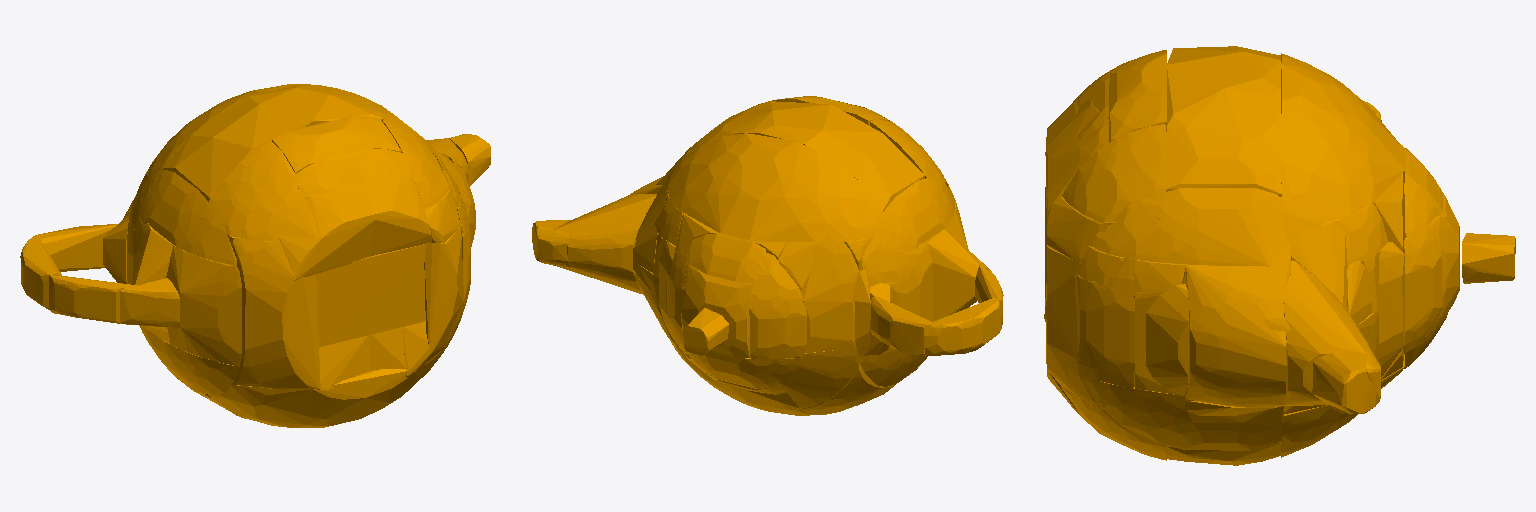
URDF robot description (teapot-white):
<?xml version="1.0" ?>
<robot name="teapot-white">
  <link name="baseLink">
    <contact>
      <lateral_friction value="1.0"/>
      <inertia_scaling value="3.0"/>
    </contact>
    <inertial>
      <origin rpy="0 0 0" xyz="0.000 0.000 0.000"/>
       <mass value=".1"/>
       <inertia ixx="1" ixy="0.0" ixz="0.0" iyy="1" iyz="0.0" izz="1"/>
    </inertial>
    <visual>
      <origin rpy="0 0 0" xyz="0 0 0"/>
      <geometry>
        <mesh filename="teapot/teapot-white_spherical.obj" scale="1.0 1.0 1.0"/>
      </geometry>
    </visual>
    <collision>
      <origin rpy="0 0 0" xyz="0 0 0"/>
      <geometry>
        <mesh filename="../collision/teapot/teapot-white_spherical.obj" scale="1.0 1.0 1.0"/>
      </geometry>
    </collision>
  </link>
</robot>
        

--- Render facts (derived) ---
3 views of the same robot in one strip: view 1: azimuth 30°, elevation 25°; view 2: azimuth 150°, elevation 25°; view 3: azimuth 270°, elevation 25° (orthographic).
Robot: teapot-white — 1 links, 0 joints (none); root link baseLink; default pose: all joints at 0.
Visible links, largest first — view 1: baseLink; view 2: baseLink; view 3: baseLink.
Boxes of the visible links, x1,y1,x2,y2 form: baseLink: [20, 84, 490, 427]; baseLink: [532, 96, 1003, 415]; baseLink: [1044, 46, 1515, 465].
Size in the robot's own frame: 0.2218 by 0.1544 by 0.1352 metres.
1 mesh visuals loaded from 1 distinct referenced files (1 OBJ).